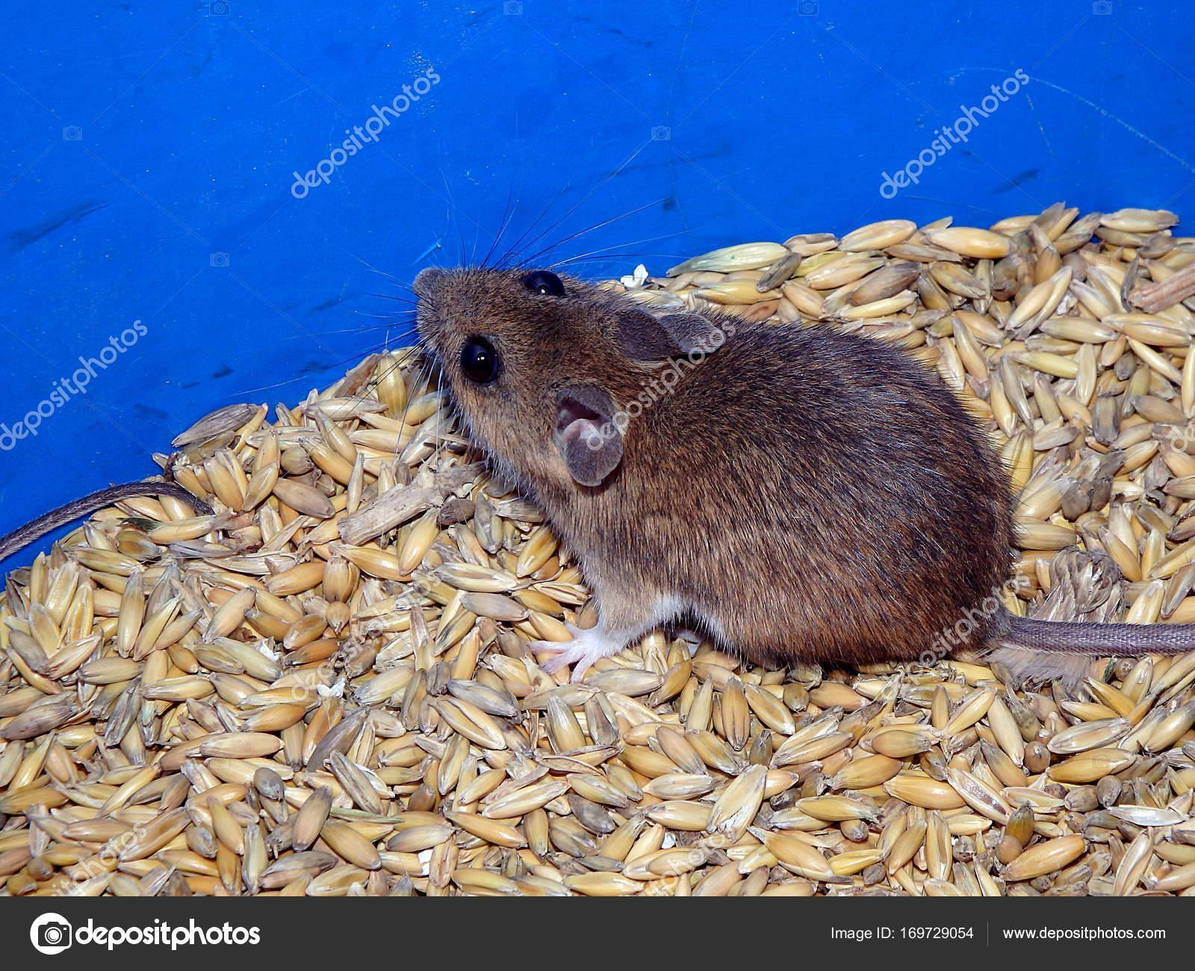rat: (419, 266, 1195, 678)
